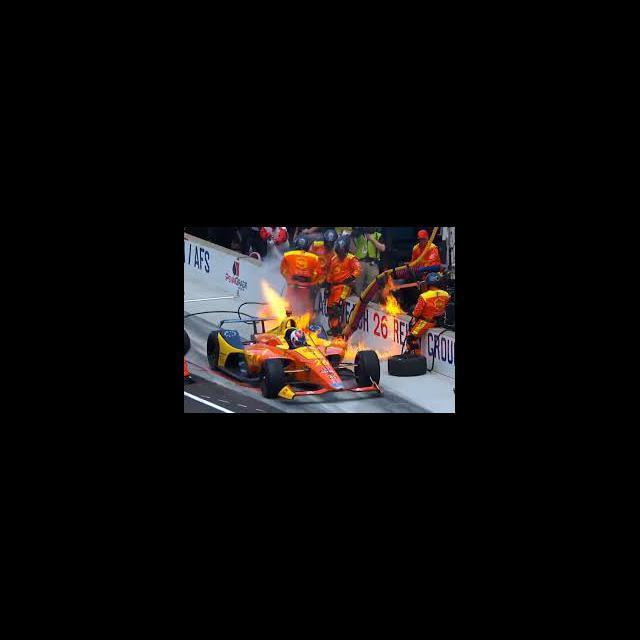Fire: (250, 280, 310, 329), (330, 333, 402, 362), (382, 276, 408, 318)
